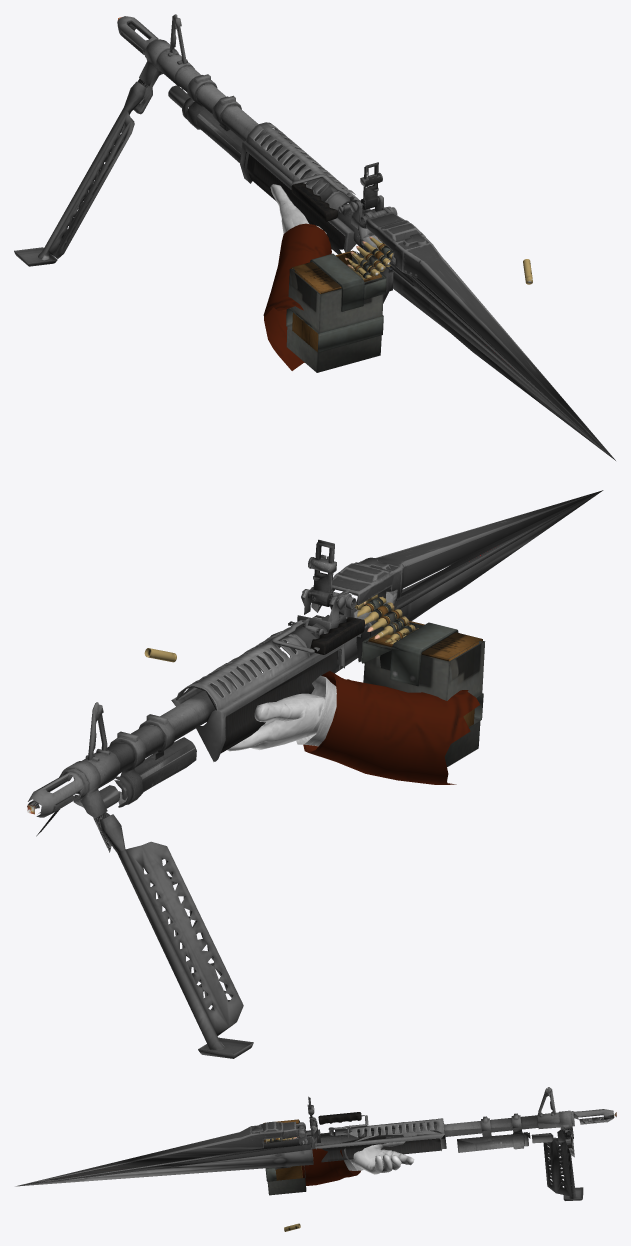
Rendered from frame_16.obj.
3 views of the same model, one above another, from view 1: azimuth 30°, elevation 25°; view 2: azimuth 150°, elevation 25°; view 3: azimuth 270°, elevation 25° (orthographic). The views are drawn at different scales.
Visible parts, largest first — view 1: Mesh.005, PlayerModelMerged.001_PlayerModelMerged, Mesh.001; view 2: Mesh.005, PlayerModelMerged.001_PlayerModelMerged, Mesh.001; view 3: Mesh.005, PlayerModelMerged.001_PlayerModelMerged.
Boxes of the visible parts, box(x1,y1,x2,y2) form: Mesh.005: box(14, 14, 615, 460); PlayerModelMerged.001_PlayerModelMerged: box(263, 184, 331, 370); Mesh.001: box(345, 236, 393, 278); Mesh.005: box(27, 490, 603, 1058); PlayerModelMerged.001_PlayerModelMerged: box(227, 671, 480, 784); Mesh.001: box(356, 596, 415, 642); Mesh.005: box(15, 1087, 614, 1200); PlayerModelMerged.001_PlayerModelMerged: box(301, 1141, 414, 1185).
Bounding box in the file's own units: 0.8111 × 0.6122 × 2.26.
